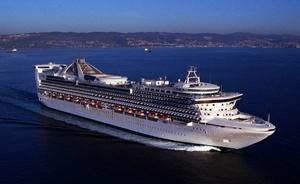youlun: (33, 53, 280, 151)
